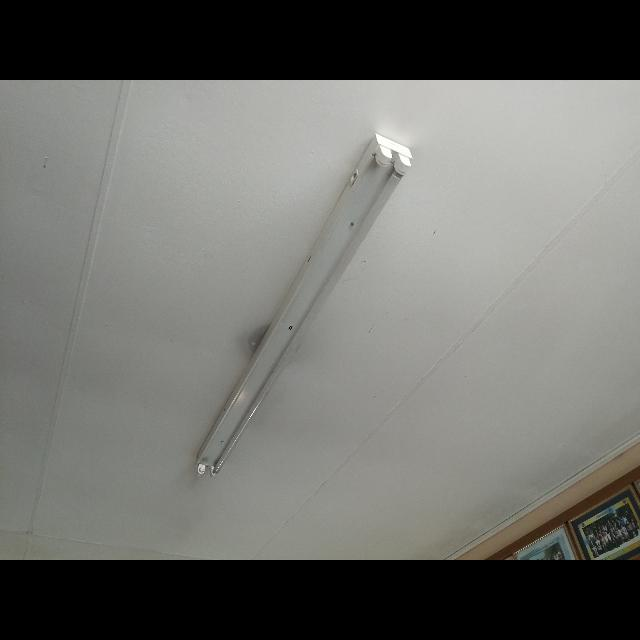Straight-Tube-Fluorescent-Lamp: (189, 125, 417, 485)
